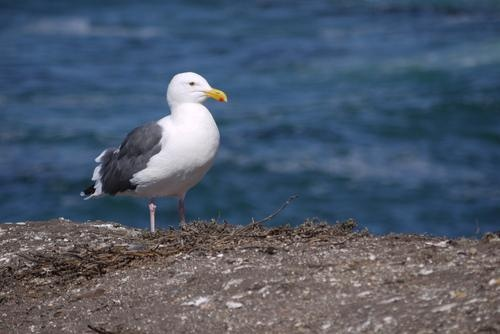bird: (80, 69, 230, 230)
